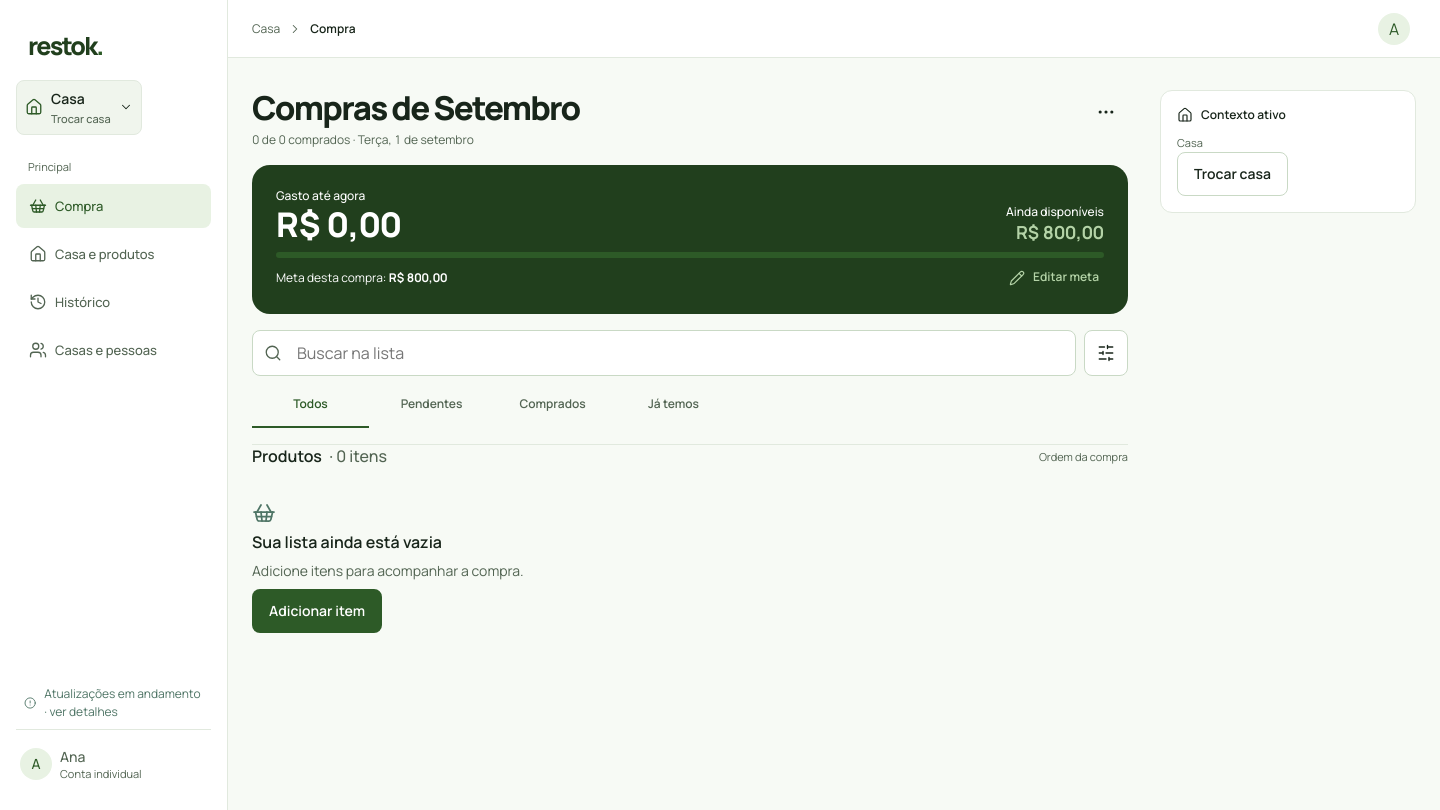
Test case: keeps a single first-item action and preserves finish in the menu for an empty purchase
Expected: the button with aria-label "Perfil de Ana" is shown, [16,742,211,786]
Expected: the element named "Contexto da tela" is shown, [1160,90,1416,212]
Click the button named "Menu da compra" at (1106, 112), box [1084,90,1128,134]
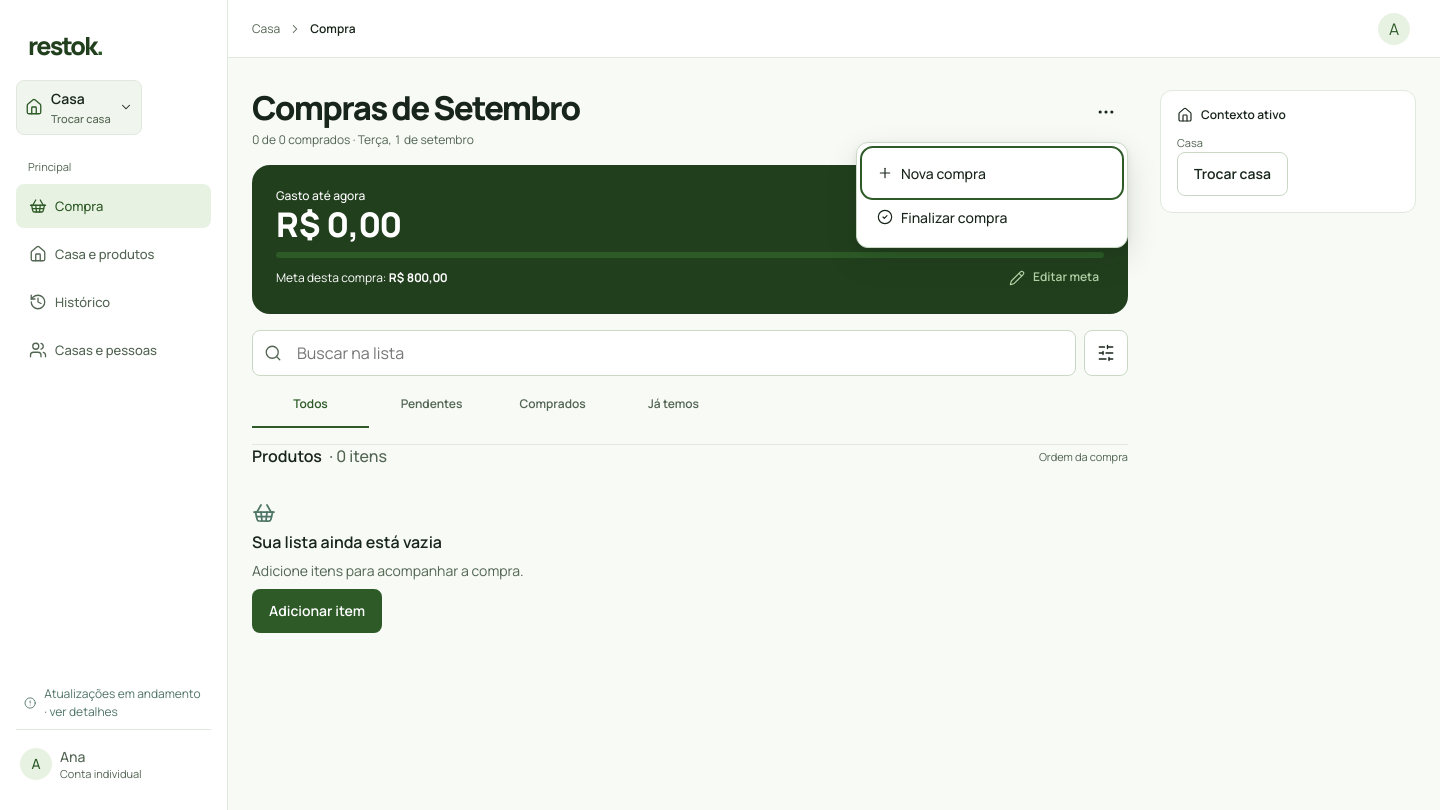
Click the menu item "Finalizar compra" at (992, 217), box [865,195,1119,239]
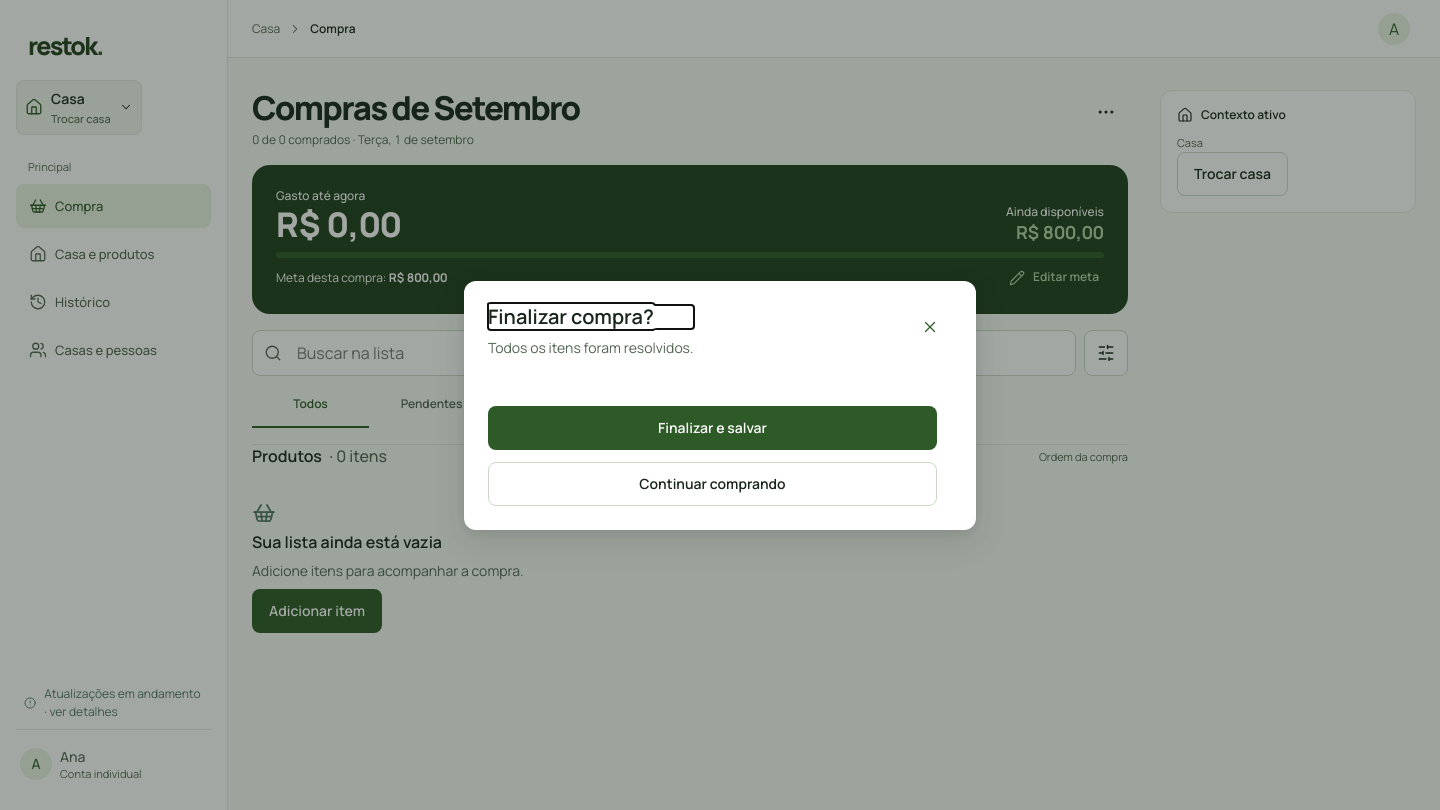
Expected: the dialog is shown, [464,280,976,530]
